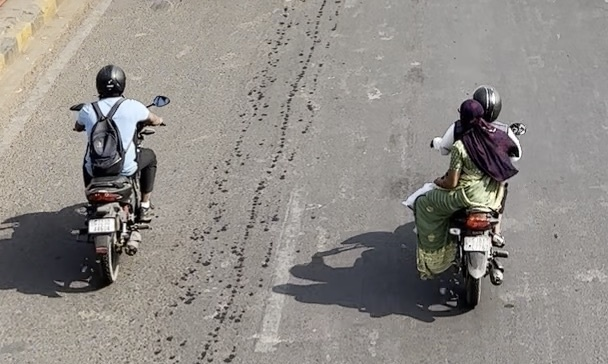BikeWithRider: (396, 79, 531, 316), (63, 58, 175, 290)
Helmet: (89, 59, 132, 101), (467, 80, 506, 125)
NoHelmet: (454, 95, 488, 132)
